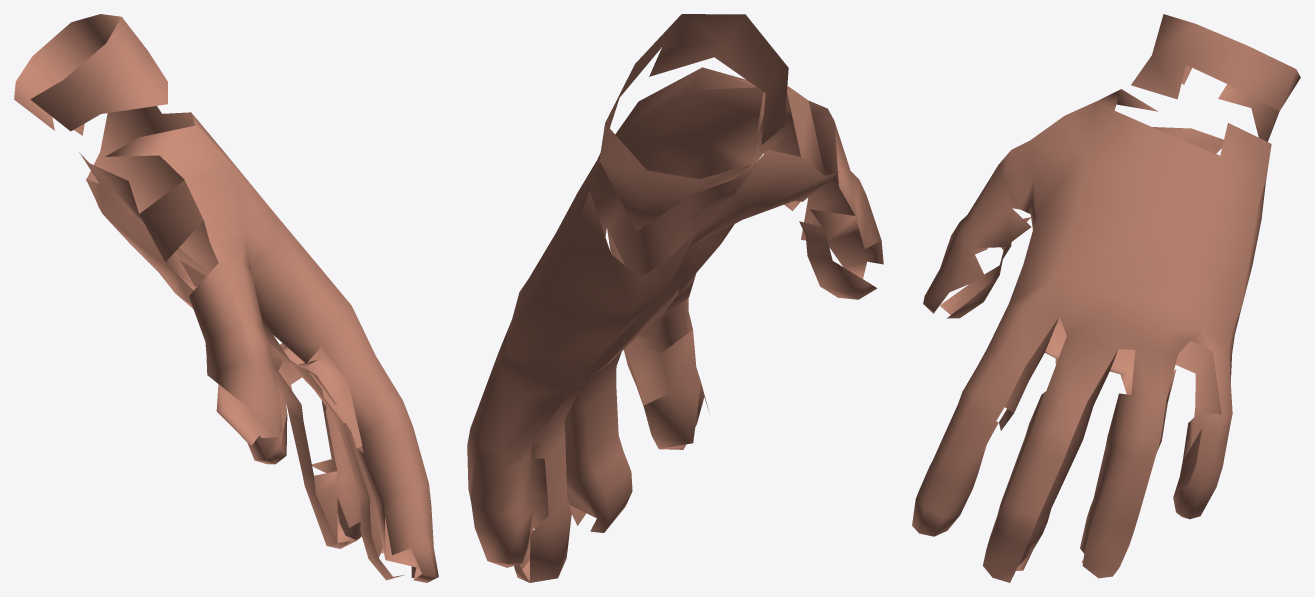
The model's file is profesor_manoizq.glb.
3 renders of one model, left to right at view 1: azimuth 30°, elevation 25°; view 2: azimuth 150°, elevation 25°; view 3: azimuth 270°, elevation 25°, orthographic. The views are drawn at different scales.
Visible parts, largest first — view 1: Object_22.001; view 2: Object_22.001; view 3: Object_22.001.
Boxes of the visible parts, x1,y1,x2,y2 form: Object_22.001: [14, 14, 438, 582]; Object_22.001: [467, 14, 883, 582]; Object_22.001: [912, 14, 1300, 582].
Bounding box in the file's own units: 0.0341 × 0.0601 × 0.0442.
1 material, 1 textured.
